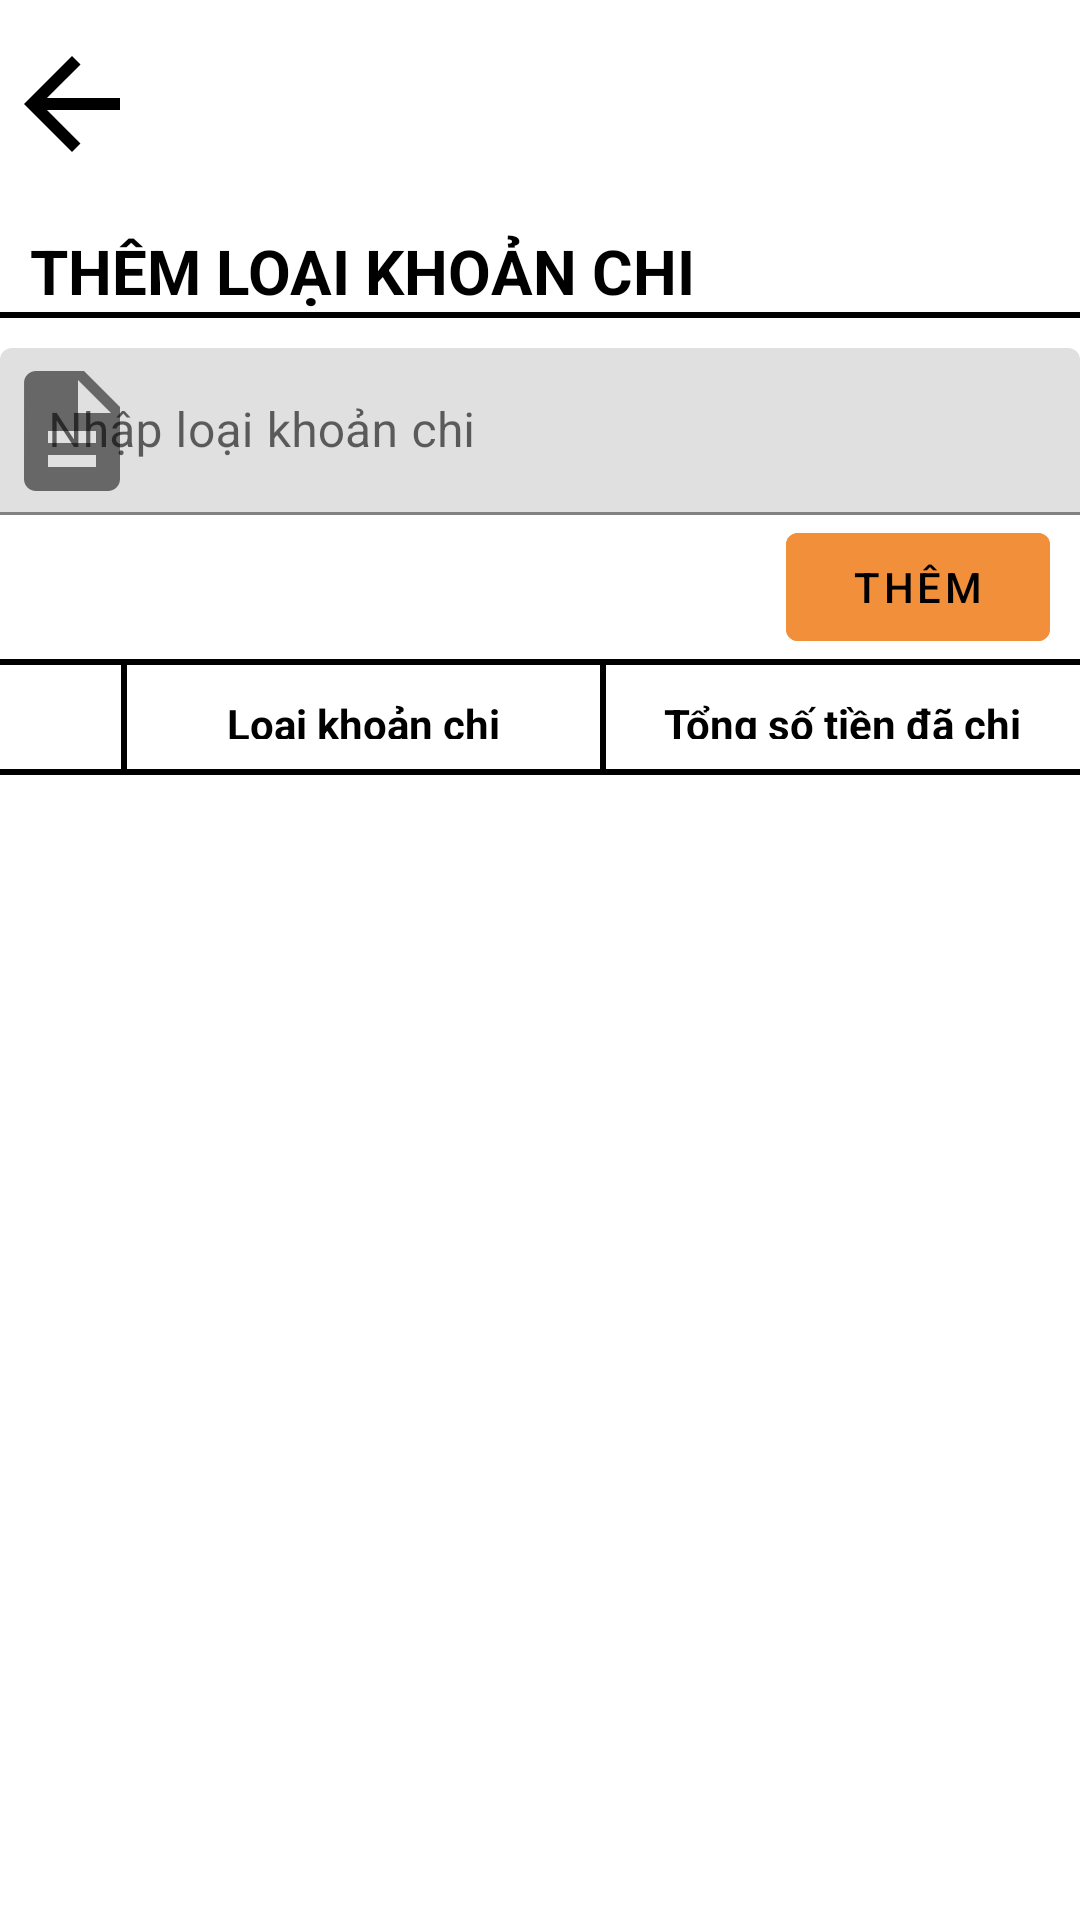

Point at icon controls on the screen. Image size 1080px x 1920px, points as (x,y).
arrow back: (72,104)
